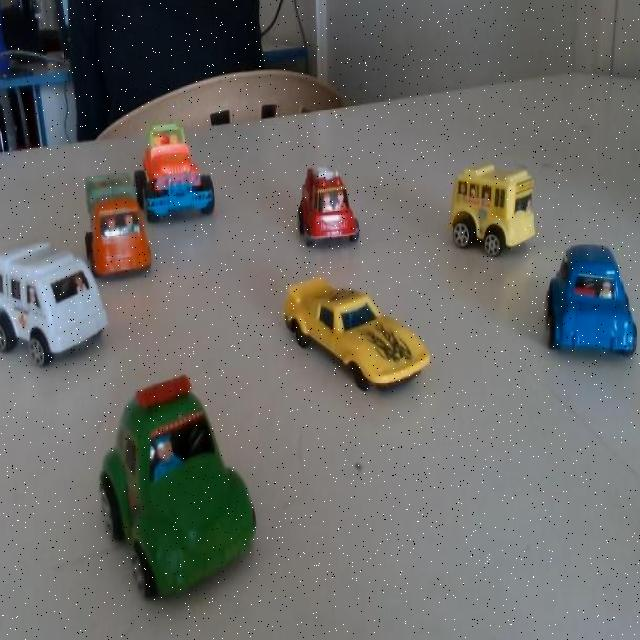car: (86, 380, 255, 583), (278, 264, 429, 402), (0, 224, 107, 378), (545, 239, 640, 367), (140, 112, 224, 218), (444, 164, 530, 263), (81, 162, 149, 282), (284, 154, 358, 260)
